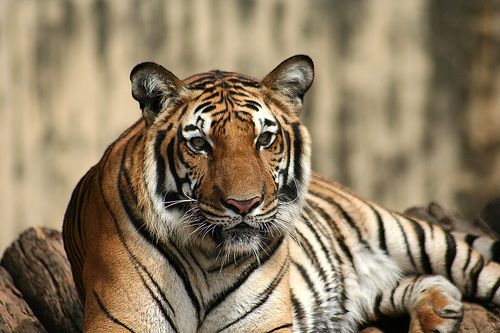Tigre: (46, 62, 426, 329)
